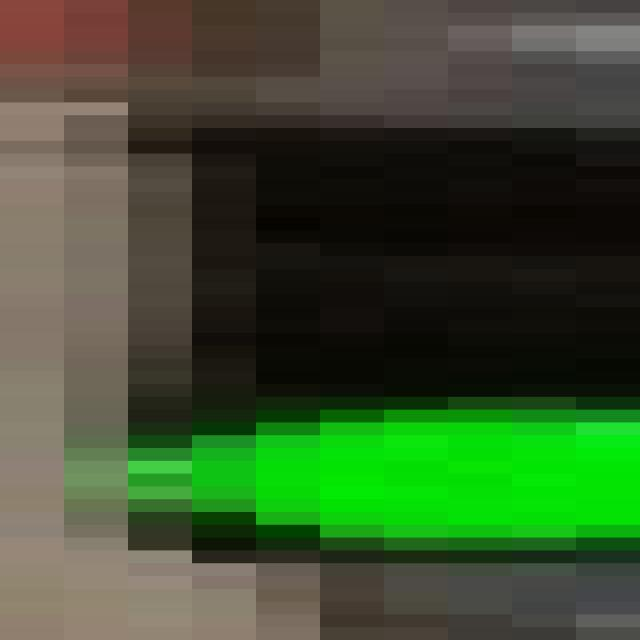green_light: (192, 102, 640, 576)
